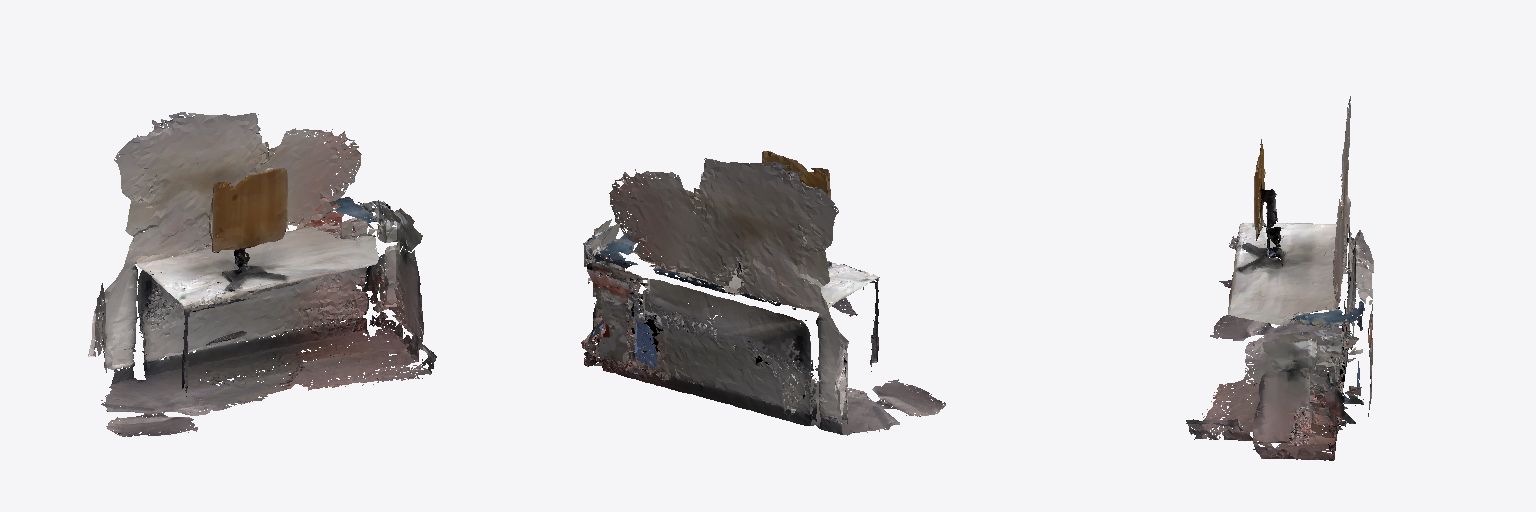
3 views of the same model, side by side, from view 1: azimuth 30°, elevation 25°; view 2: azimuth 150°, elevation 25°; view 3: azimuth 270°, elevation 25° (orthographic).
Bounding box in the file's own units: 2.06 × 1.61 × 1.06.
1 materials, 1 textured.